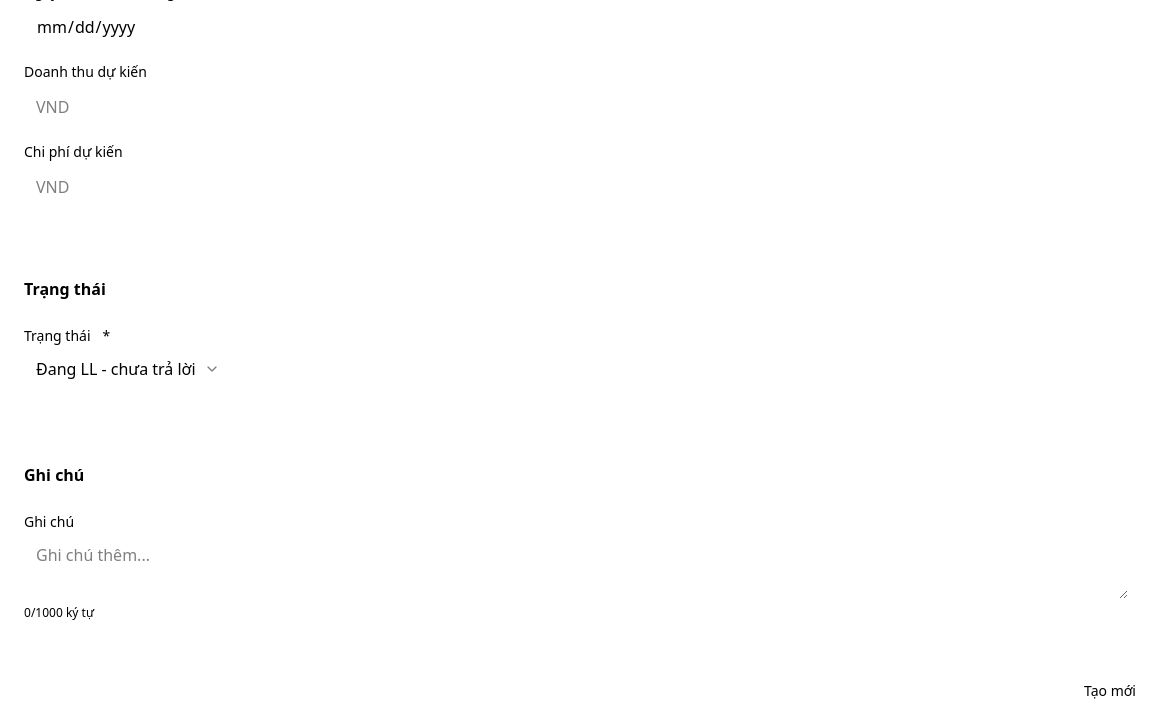
Scenario: RequestForm › Form Validation › shows error for empty required fields on submit
(page scrolled)
Click the button "Tạo mới" at (1110, 691), box [1068,669,1152,712]
(page scrolled)
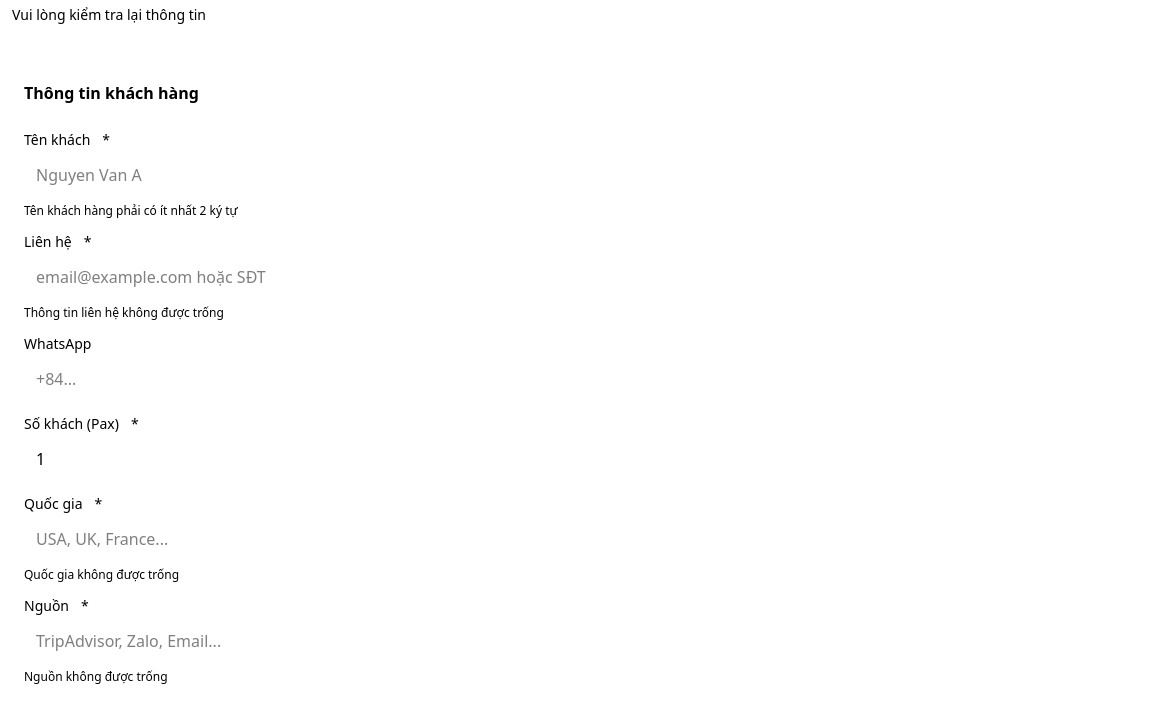
Expected: the text "Vui lòng kiểm tra lại thông tin" is shown, [12,5,206,24]
